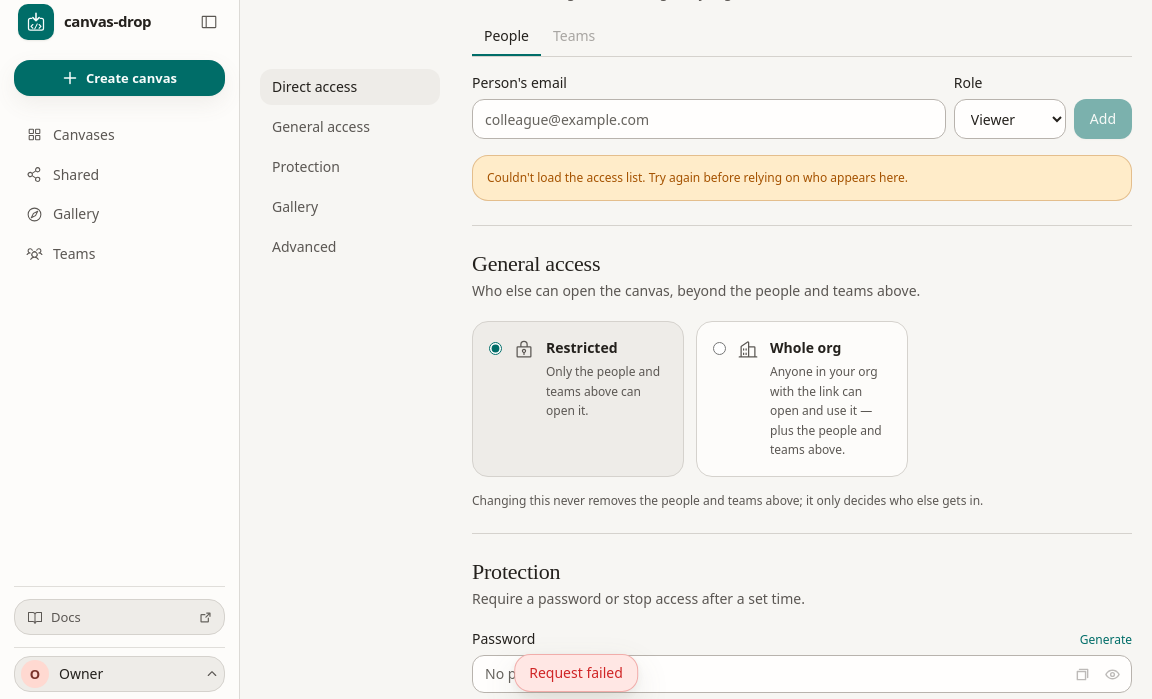
share route › shows an error toast when an access change (save) fails (no silent swallow)
This screenshot has width=1152, height=699.
(page scrolled)
What coordinates should you click on to do the following:
click the radio button labelled "Whole org"
I would click on:
 (720, 348)
Its box is 713,342 -> 726,355.
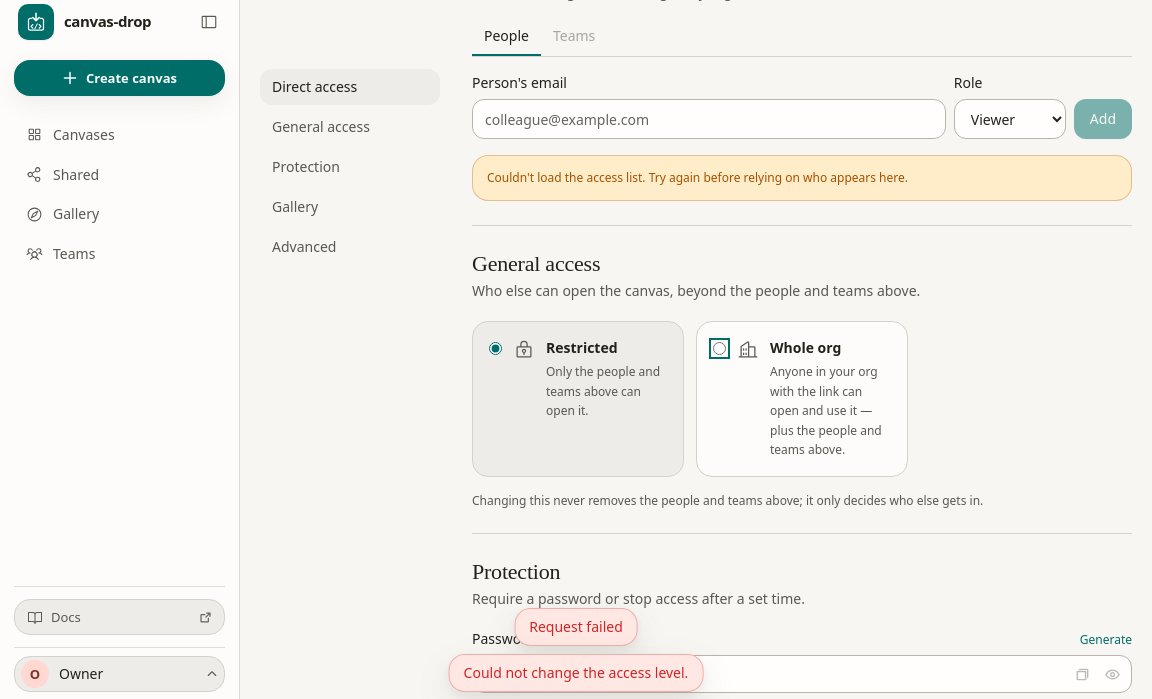
Check: the text "Could not change the access level." is shown, box 449,654 -> 703,692
